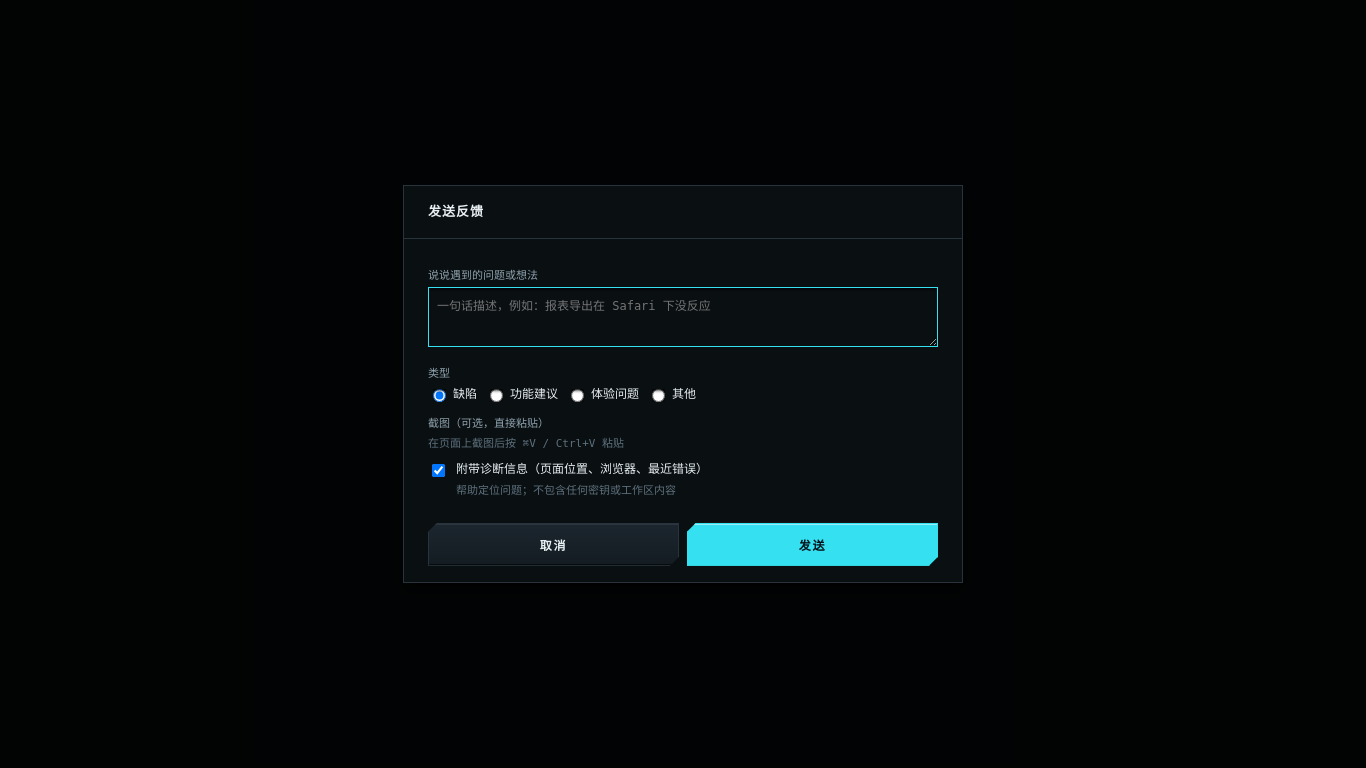
Test: FeedbackModal › 空消息提交显示校验提示，不调 API
What coordinates should you click on to do the following:
click the button "发送"
I would click on:
 (812, 544)
Its box is x1=687 y1=523 x2=938 y2=566.
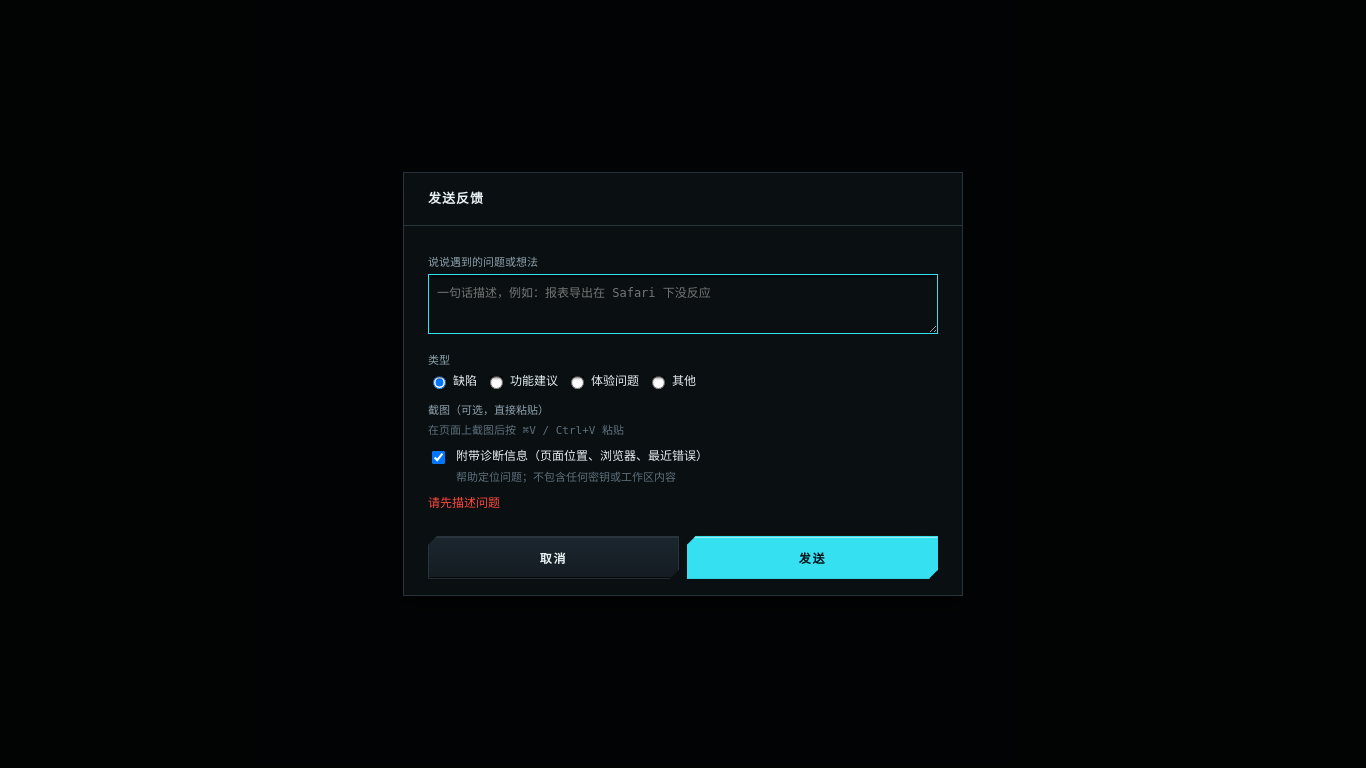
Expected: the text "请先描述问题" is shown, x1=428 y1=494 x2=500 y2=511
